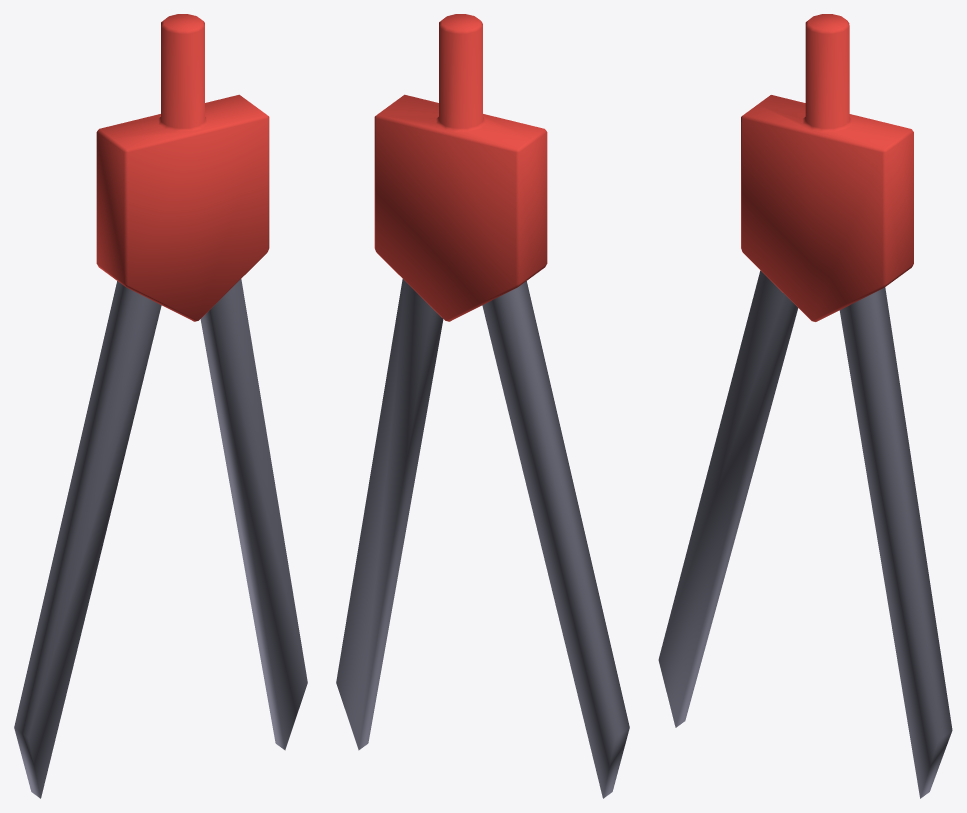
File: Compass.fbx
3 renders of one model, left to right at view 1: azimuth 30°, elevation 25°; view 2: azimuth 150°, elevation 25°; view 3: azimuth 330°, elevation 25°, orthographic.
Parts seen in each view (by area): view 1: Circle.003; view 2: Circle.003; view 3: Circle.003.
Part boxes in pixels (x1,y1,x2,y2): Circle.003: (14,14,307,798); Circle.003: (336,14,629,798); Circle.003: (658,14,952,798).
Size of the model in its own units: 8.51 by 21.8 by 1.6.
